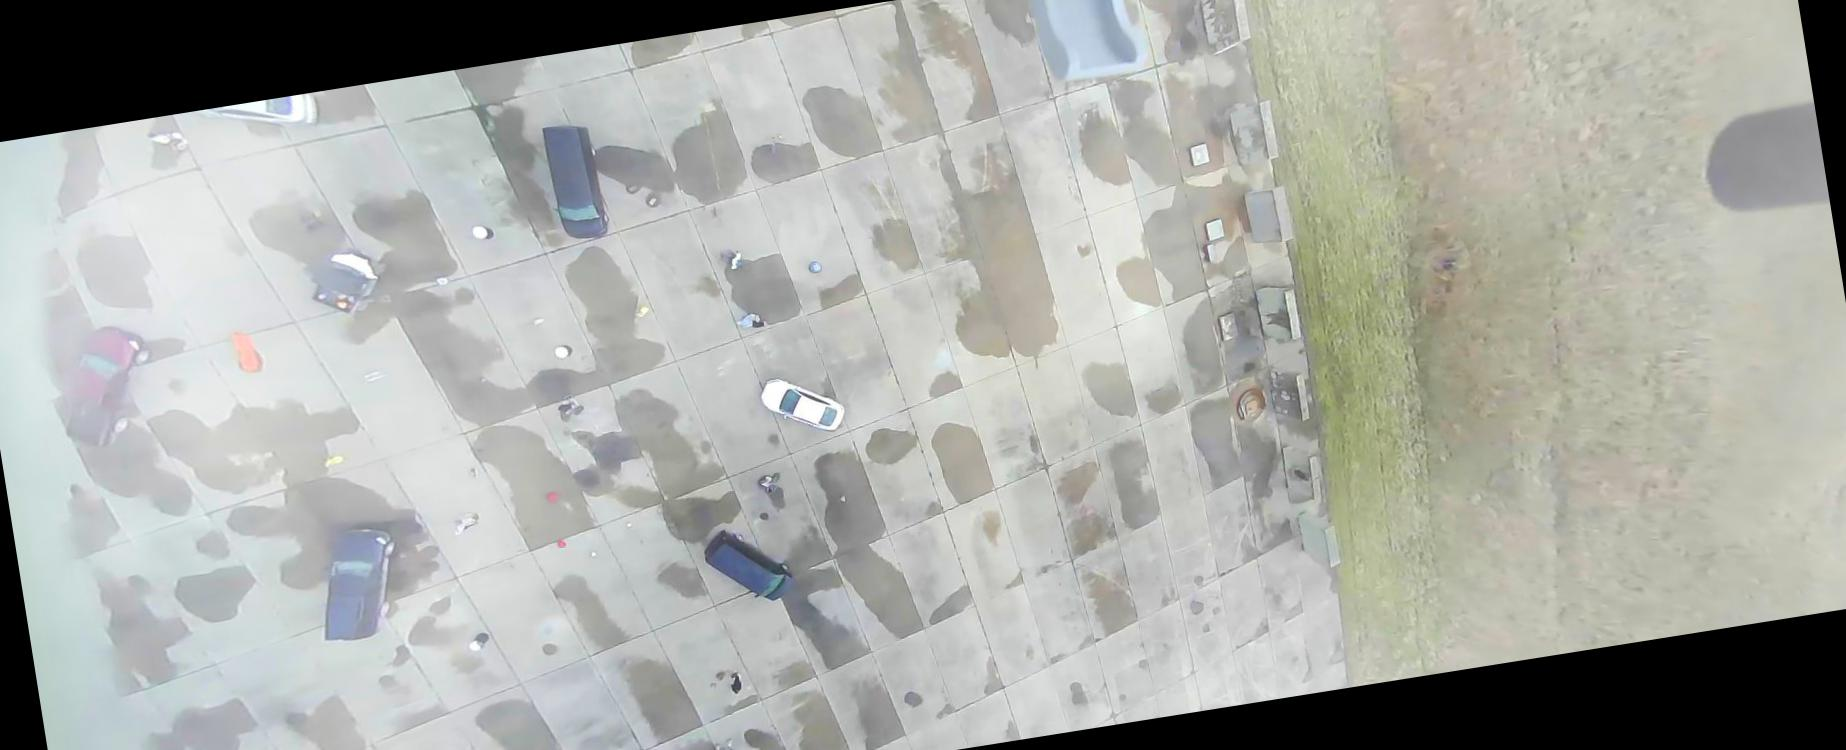vehicle: (49, 319, 164, 452), (306, 523, 410, 645), (538, 118, 612, 243), (700, 520, 795, 610), (304, 244, 393, 319), (193, 92, 319, 144), (757, 369, 846, 440)
